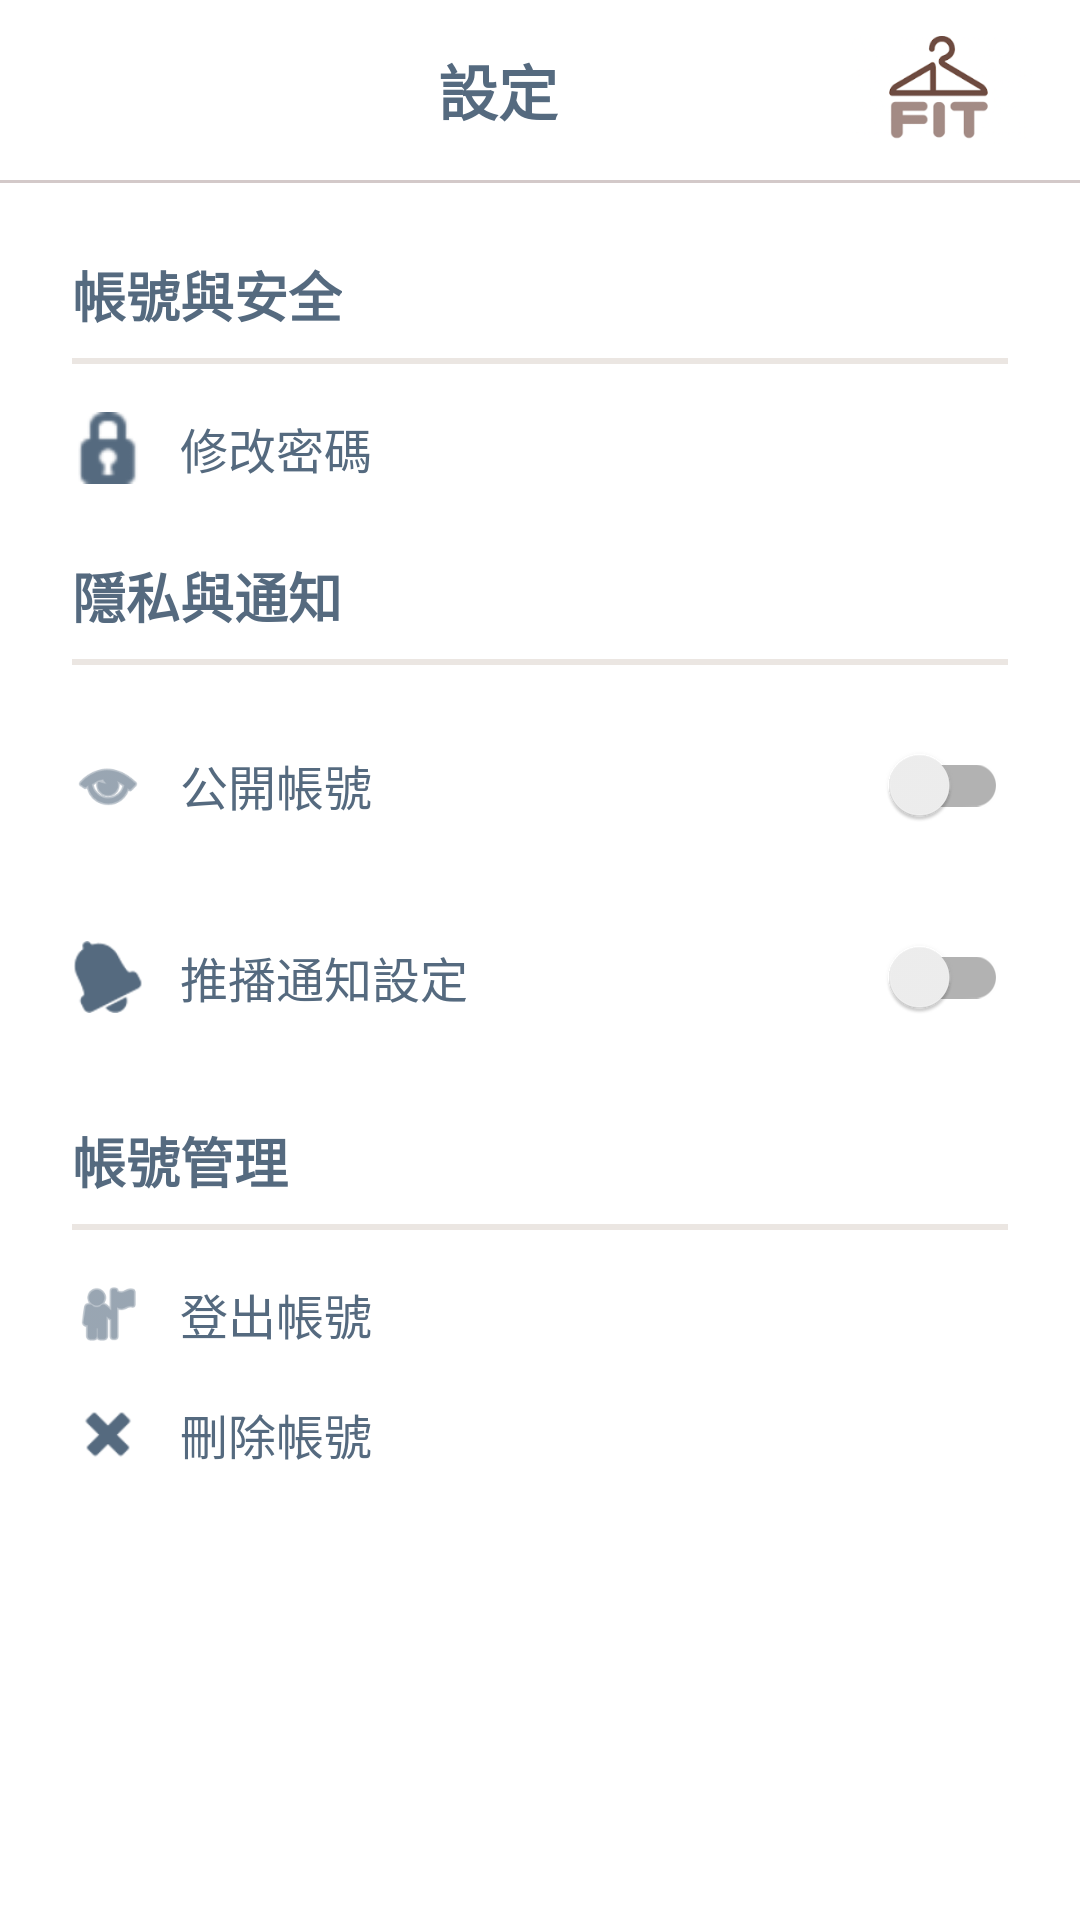

Point at icon controls on the screen. Image size 1080×1920, points as [x,y].
delete: [108,1434]
popup reminder: [108,977]
secure: [108,448]
view: [108,786]
